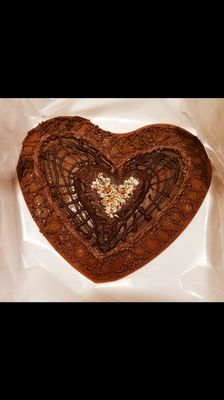sushi: (15, 115, 211, 284)
